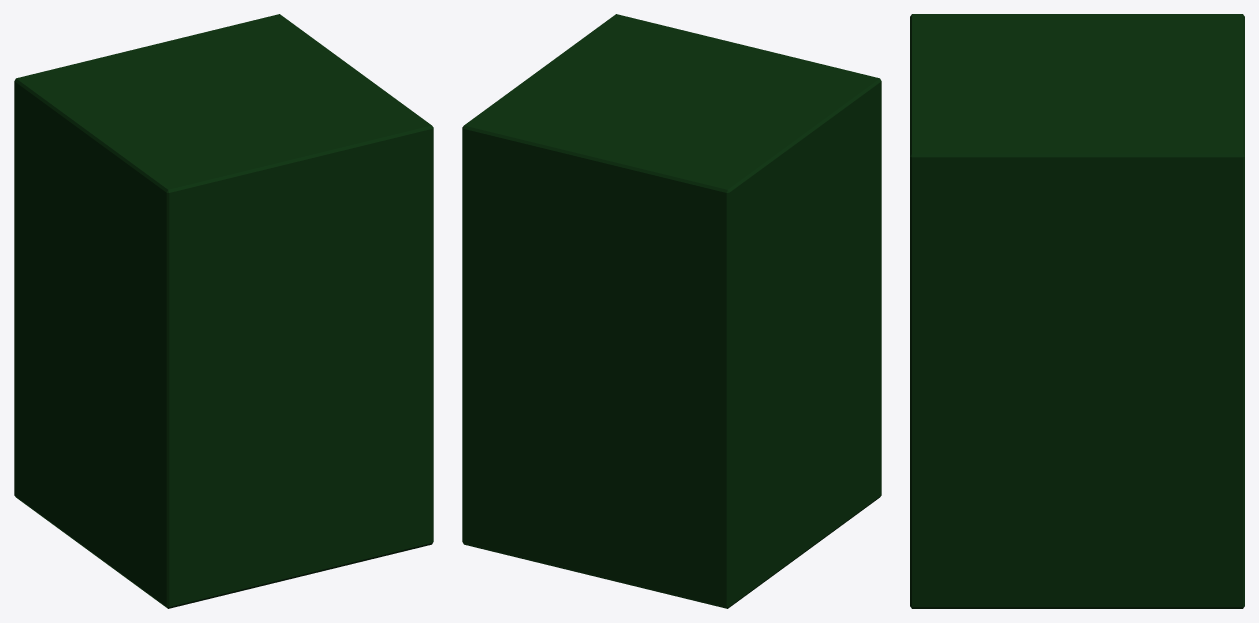
Rendered from Building_type_92.fbx.
The picture shows the model from 3 angles, left to right: view 1: azimuth 30°, elevation 25°; view 2: azimuth 150°, elevation 25°; view 3: azimuth 270°, elevation 25°; orthographic projection. The views are drawn at different scales.
Parts seen in each view (by area): view 1: Cube_1; view 2: Cube_1; view 3: Cube_1.
Boxes of the visible parts, x1=… form: Cube_1: x1=14, y1=14, x2=433, y2=608; Cube_1: x1=462, y1=14, x2=881, y2=608; Cube_1: x1=910, y1=14, x2=1244, y2=608.
Bounding box in the file's own units: 2000 × 3000 × 2000.
